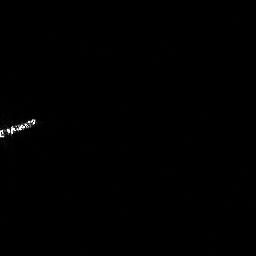ship: (1, 116, 38, 140)
